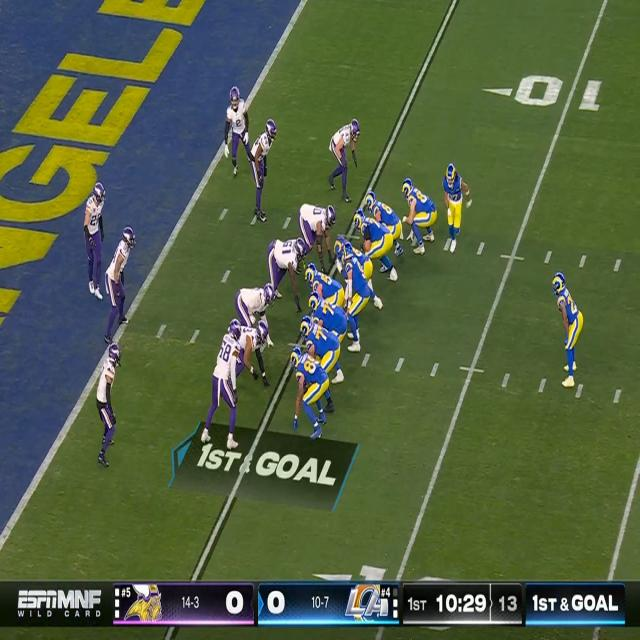Player: (551, 270, 584, 390), (212, 318, 240, 436), (106, 226, 134, 340), (291, 348, 327, 435), (96, 344, 121, 468), (441, 161, 470, 257), (402, 178, 438, 255), (328, 120, 360, 204), (251, 117, 277, 220), (84, 180, 106, 301), (344, 243, 367, 351), (226, 85, 250, 173), (300, 316, 340, 362), (268, 237, 304, 286), (233, 280, 275, 322), (355, 208, 391, 256), (306, 262, 344, 304), (241, 322, 268, 381), (310, 293, 348, 333), (335, 235, 372, 276), (300, 200, 336, 241), (365, 191, 399, 230)
